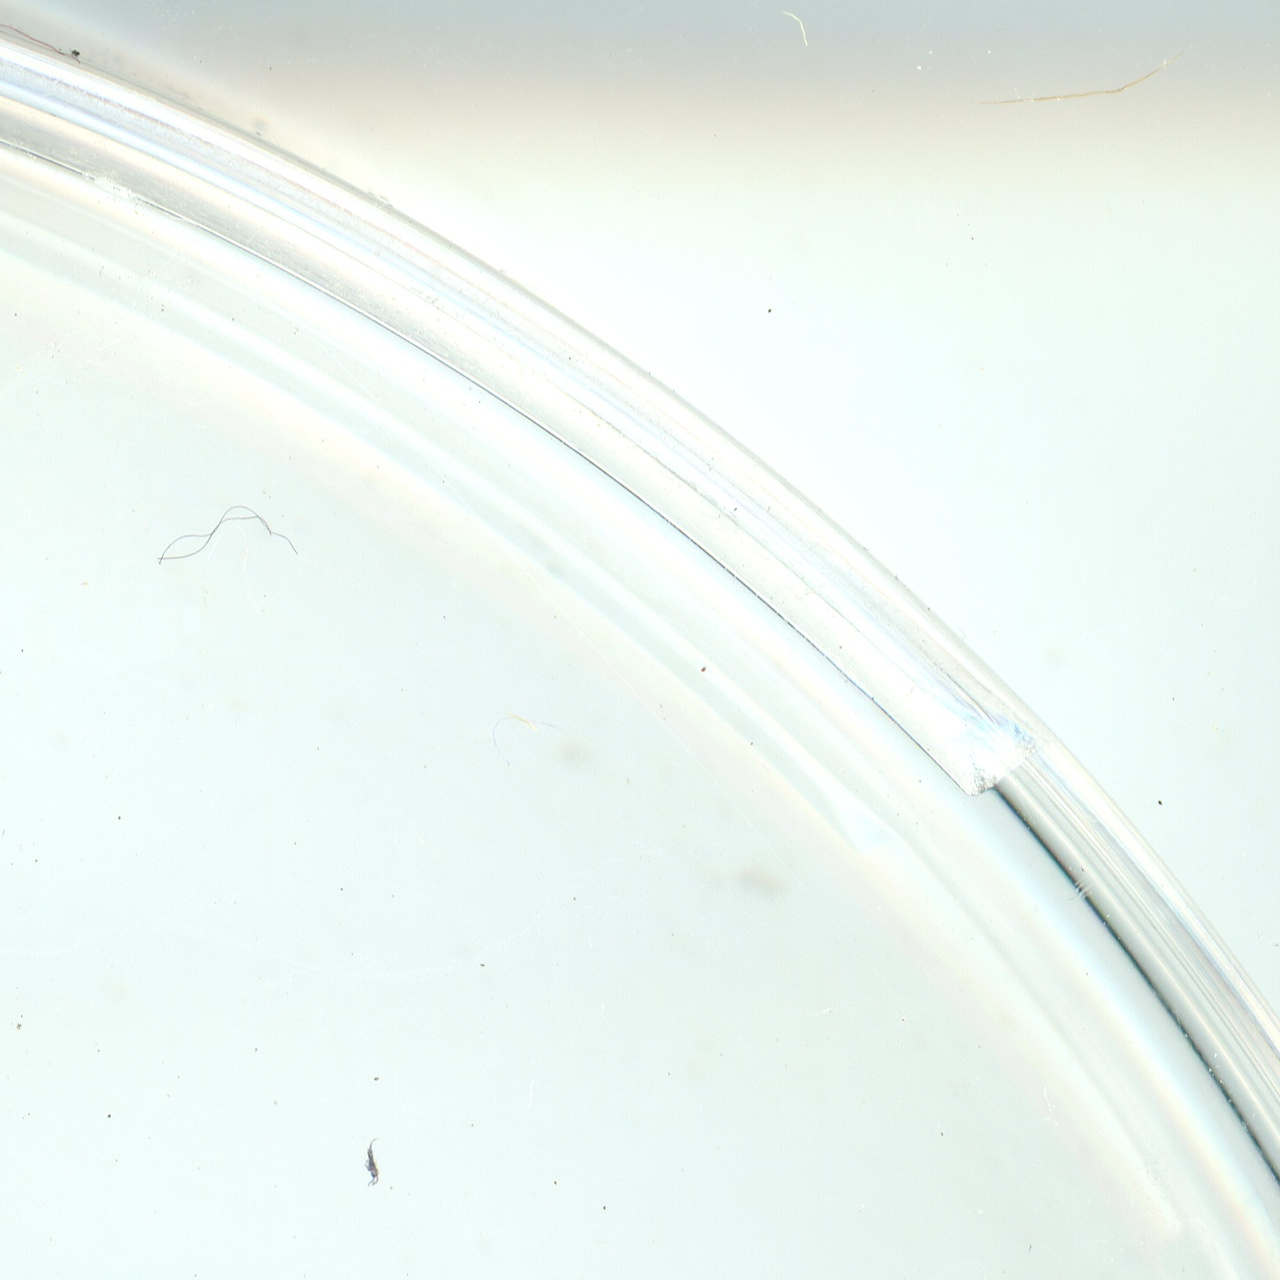arthropod: (363, 1132, 384, 1190)
